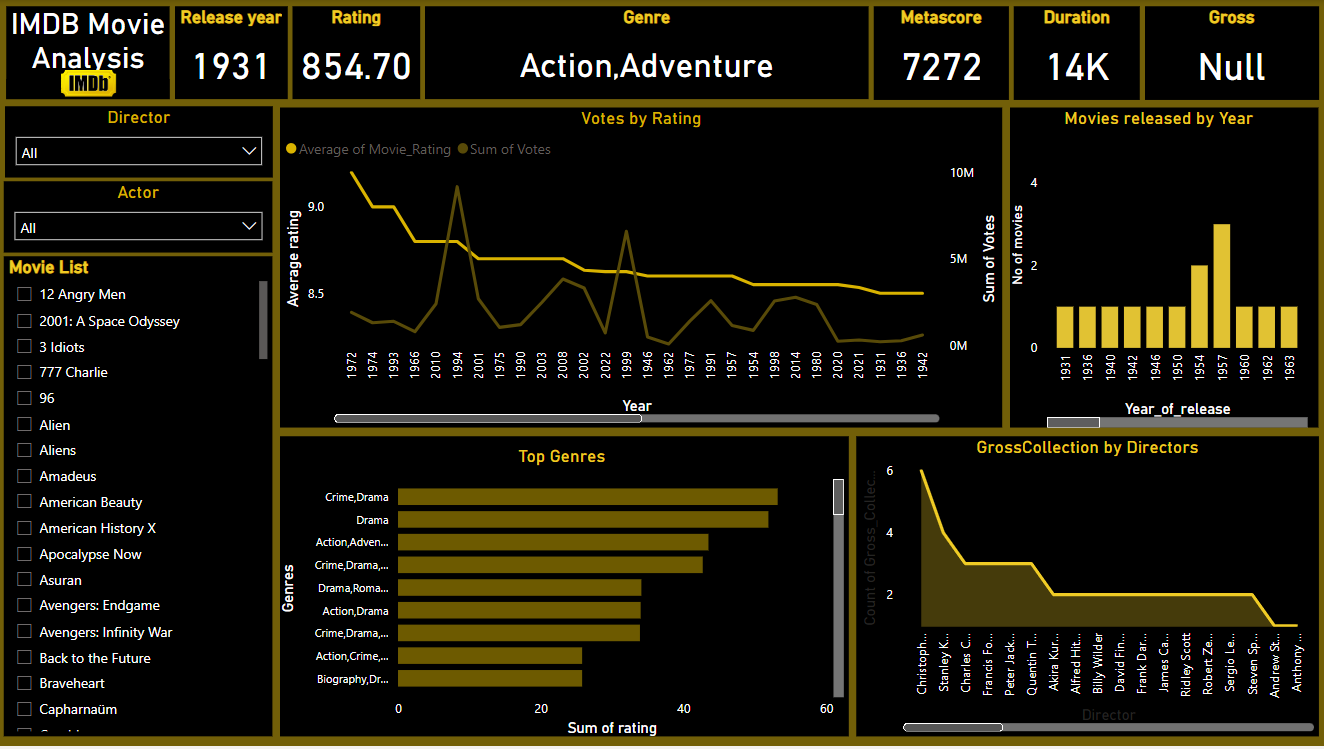

This screenshot's page, from the dashboard's own definition file:
{"tool":"powerbi","page":{"name":"Page 1","canvas":[1280,720],"ordinal":0},"visuals":[{"type":"card","title":"Rating","fields":{"Values":["DataIMdb.Movie_Rating"]},"box":[282.2,6,123,89.2],"z":0},{"type":"card","title":"Genre","fields":{"Values":["DataIMdb.genre"]},"box":[410.1,6,428.1,89.2],"z":1000},{"type":"card","title":"Release year","fields":{"Values":["DataIMdb.Year_of_release"]},"box":[168.8,6,108.5,89.2],"z":2000},{"type":"card","title":"Metascore","fields":{"Values":["DataIMdb.Metascore"]},"box":[843,6,130.3,90.5],"z":3000},{"type":"card","title":"Duration","fields":{"Values":["DataIMdb.Watchtime"]},"box":[978.1,6,121.8,90.5],"z":4000},{"type":"slicer","title":"Movie List","fields":{"Values":["DataIMdb.Name_of_movie"]},"box":[3.6,247.2,259.3,463.1],"z":5000},{"type":"lineStackedColumnComboChart","title":"Movies released by Year","fields":{"Category":["DataIMdb.Year_of_release"],"Y":["datadb.Gross_Collection"]},"box":[974.5,103.7,297.9,308.7],"z":6000},{"type":"barChart","title":"Top Genres","fields":{"Category":["DataIMdb.genre"],"Y":["datadb.Movie_Rating"]},"box":[270.2,420.9,548.7,289.4],"z":7000},{"type":"card","title":"Gross","fields":{"Values":["DataIMdb.Gross_Collection"]},"box":[1104.7,6,167.6,90.5],"z":8000},{"type":"lineChart","title":"Votes by Rating","fields":{"Category":["datadb.Year_of_release"],"Y":["datadb.Movie_Rating"],"Y2":["datadb.Votes"]},"box":[270.2,103.7,697.1,308.7],"z":9000},{"type":"slicer","title":"Director","fields":{"Values":["datadb.Director"]},"box":[4.8,102.5,258.1,68.7],"z":10000},{"type":"slicer","title":"Actor","fields":{"Values":["datadb.Actor"]},"box":[3.6,174.9,259.3,68.7],"z":11000},{"type":"areaChart","title":" GrossCollection by Directors","fields":{"Category":["datadb.Director"],"Y":["datadb.Gross_Collection"]},"box":[826.1,420.9,446.2,289.4],"z":12000},{"type":"shape","title":"IMDB Movie Analysis","box":[6,0,158,95.3],"z":13000},{"type":"image","box":[47,43.4,74.8,68.7],"z":14000}]}

Visuals, with their boxes in screenshot pixels (x1, y1, x2, y2), scaled from the page's 1280x720 canvas onto the 1324x749 screenshot:
"Rating" card: 292 6 419 99
"Genre" card: 424 6 867 99
"Release year" card: 175 6 287 99
"Metascore" card: 872 6 1007 100
"Duration" card: 1012 6 1138 100
"Movie List" slicer: 4 257 272 739
"Movies released by Year" lineStackedColumnComboChart: 1008 108 1316 429
"Top Genres" barChart: 279 438 847 739
"Gross" card: 1143 6 1316 100
"Votes by Rating" lineChart: 279 108 1001 429
"Director" slicer: 5 107 272 178
"Actor" slicer: 4 182 272 253
" GrossCollection by Directors" areaChart: 854 438 1316 739
"IMDB Movie Analysis" shape: 6 0 170 99
image: 49 45 126 117
